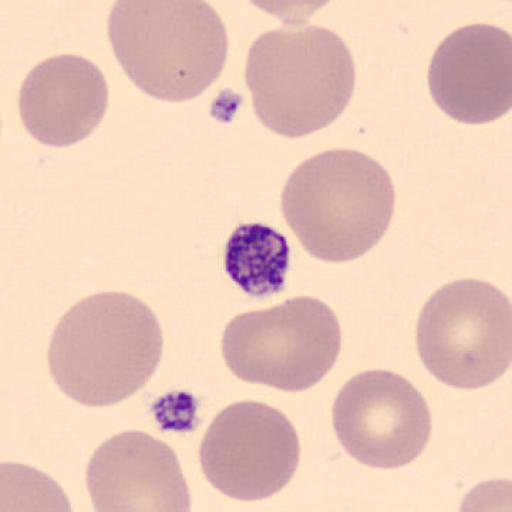Platelet: (220, 219, 293, 300), (146, 385, 205, 436)
RBC: (44, 288, 166, 410), (278, 146, 398, 266), (242, 23, 358, 141), (106, 1, 230, 105), (219, 293, 344, 395), (413, 277, 511, 392), (197, 398, 302, 504), (331, 366, 433, 472), (84, 427, 193, 512), (425, 21, 512, 127), (16, 53, 110, 149), (0, 460, 74, 512), (237, 0, 343, 27), (456, 475, 511, 512)
